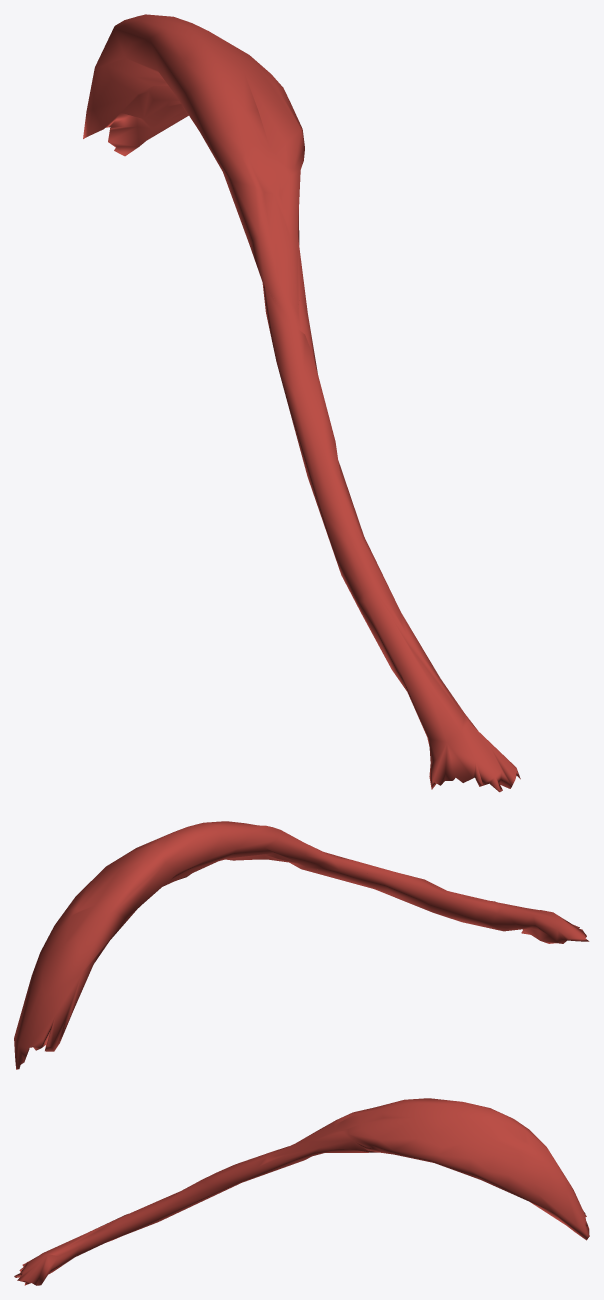
File: musculos-extensor-hallucis-brevis-l.glb
3 views of the same model, one above another, from view 1: azimuth 30°, elevation 25°; view 2: azimuth 150°, elevation 25°; view 3: azimuth 270°, elevation 25° (orthographic). The views are drawn at different scales.
Visible parts, largest first — view 1: Extensor hallucis brevis.l; view 2: Extensor hallucis brevis.l; view 3: Extensor hallucis brevis.l.
Boxes of the visible parts, <box> form: Extensor hallucis brevis.l: <box>83,14,520,792</box>; Extensor hallucis brevis.l: <box>14,821,589,1069</box>; Extensor hallucis brevis.l: <box>14,1098,589,1285</box>.
Bounding box in the file's own units: 0.0338 × 0.0479 × 0.1218.
